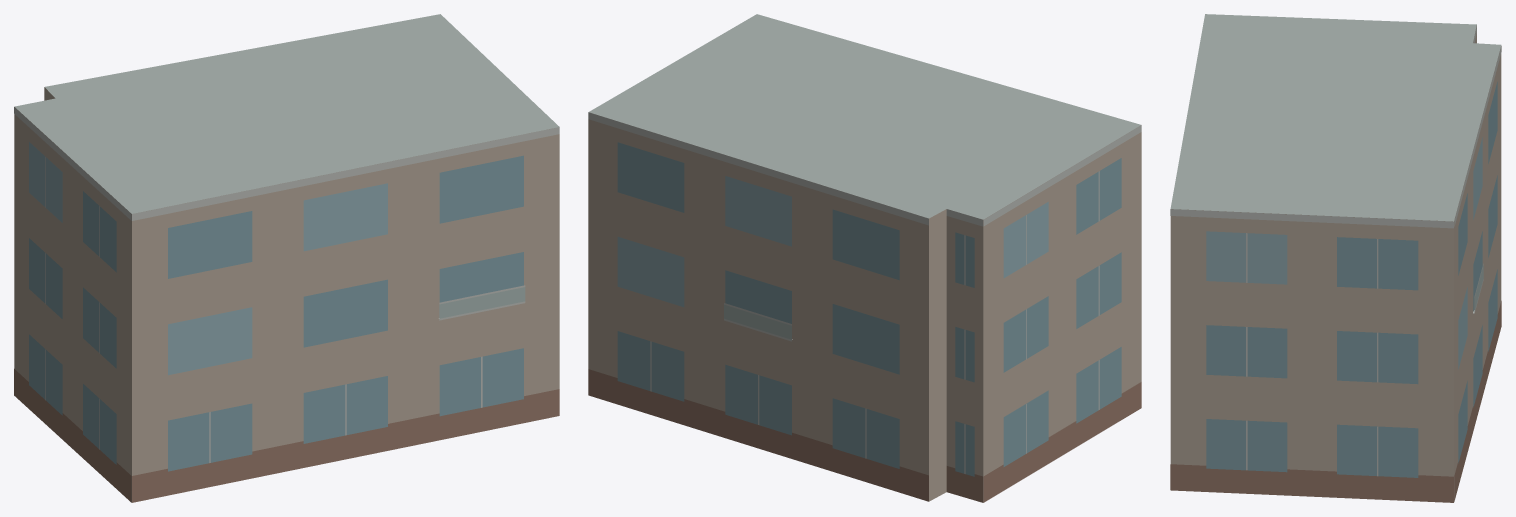
The model's file is survey-upis-32471821.glb.
3 renders of one model, left to right at view 1: azimuth 30°, elevation 25°; view 2: azimuth 150°, elevation 25°; view 3: azimuth 270°, elevation 25°, orthographic. The views are drawn at different scales.
Visible parts, largest first — view 1: survey-upis-32471821.tmp; view 2: survey-upis-32471821.tmp; view 3: survey-upis-32471821.tmp.
Part boxes in pixels (box(x1,y1,x2,y2)): survey-upis-32471821.tmp: box(14, 14, 559, 502); survey-upis-32471821.tmp: box(588, 14, 1141, 502); survey-upis-32471821.tmp: box(1170, 14, 1501, 502).
Size of the model in its own units: 15.67 by 9.9 by 10.57.
